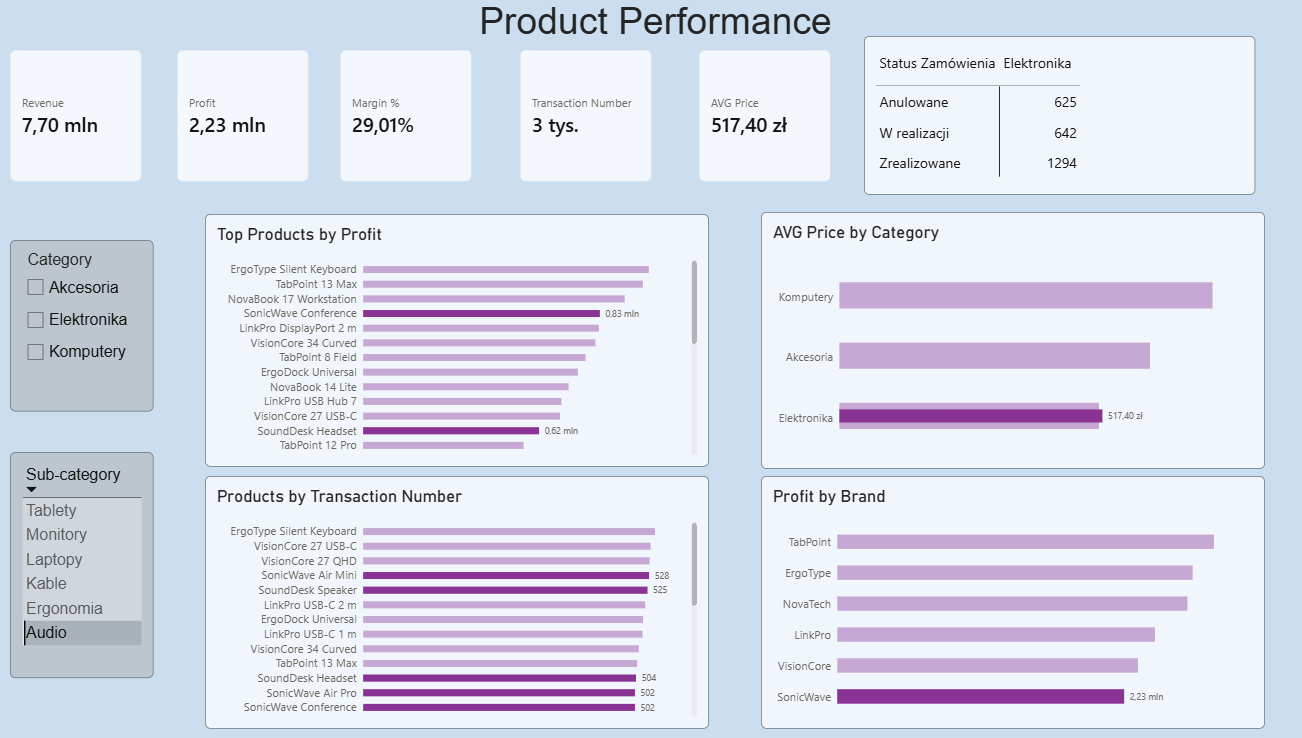

Layout of this report page (visuals, bound fields, positions):
{"tool":"powerbi","page":{"name":"Product Performance","canvas":[1920,1080],"ordinal":1},"visuals":[{"type":"textbox","box":[10,15,1910,71.7],"z":0},{"type":"slicer","fields":{"Values":["produkty.Kategoria"]},"box":[42.9,358.6,205,245],"z":2000},{"type":"tableEx","fields":{"Values":["produkty.Podkategoria"]},"box":[42.9,661.4,205,323.3],"z":3000},{"type":"barChart","title":"Top Products by Profit","fields":{"Category":["produkty.NazwaProduktu"],"Y":["Miary.Profit"]},"box":[321.4,321.4,720,361.4],"z":4000},{"type":"cardVisual","fields":{"Data":["Miary.Revenue"]},"box":[42.9,87.1,188.3,188.3],"z":9000},{"type":"cardVisual","fields":{"Data":["Miary.Profit"]},"box":[281.4,87.1,188.3,188.3],"z":10000},{"type":"pivotTable","fields":{"Columns":["produkty.Kategoria"],"Rows":["sprzedaz.StatusZamowienia"],"Values":["Miary.Transaction Number"]},"box":[1262.9,67.1,558.6,227.1],"z":11000},{"type":"cardVisual","fields":{"Data":["Miary.Margin %"]},"box":[514.3,87.1,188.6,188.6],"z":12000},{"type":"cardVisual","fields":{"Data":["Miary.Transaction Number"]},"box":[771.4,87.1,188.6,188.6],"z":13000},{"type":"clusteredBarChart","title":"Products by Transaction Number","fields":{"Category":["produkty.NazwaProduktu"],"Y":["Miary.Transaction Number"]},"box":[321.4,695.7,720,361.4],"z":13001},{"type":"cardVisual","fields":{"Data":["Miary.AVG Price"]},"box":[1027.1,87.1,188.6,188.6],"z":13002},{"type":"clusteredBarChart","title":"AVG Price by Category","fields":{"Category":["produkty.Kategoria"],"Y":["Miary.AVG Price"]},"box":[1115.7,318.6,720,367.1],"z":13003},{"type":"clusteredBarChart","title":"Profit by Brand","fields":{"Category":["produkty.Marka"],"Y":["Miary.Profit"]},"box":[1115.7,695.7,720,361.4],"z":13004}]}

Visuals, with their boxes in screenshot pixels (x1, y1, x2, y2), scaled from the page's 1920x1080 canvas onto the 1302x738 screenshot:
textbox: <box>7,10,1301,59</box>
slicer - produkty.Kategoria: <box>29,245,168,412</box>
tableEx - produkty.Podkategoria: <box>29,452,168,673</box>
"Top Products by Profit" barChart: <box>218,220,706,467</box>
cardVisual - Miary.Revenue: <box>29,60,157,188</box>
cardVisual - Miary.Profit: <box>191,60,319,188</box>
pivotTable - produkty.Kategoria x sprzedaz.StatusZamowienia: <box>856,46,1235,201</box>
cardVisual - Miary.Margin %: <box>349,60,477,188</box>
cardVisual - Miary.Transaction Number: <box>523,60,651,188</box>
"Products by Transaction Number" clusteredBarChart: <box>218,475,706,722</box>
cardVisual - Miary.AVG Price: <box>697,60,824,188</box>
"AVG Price by Category" clusteredBarChart: <box>757,218,1245,469</box>
"Profit by Brand" clusteredBarChart: <box>757,475,1245,722</box>
